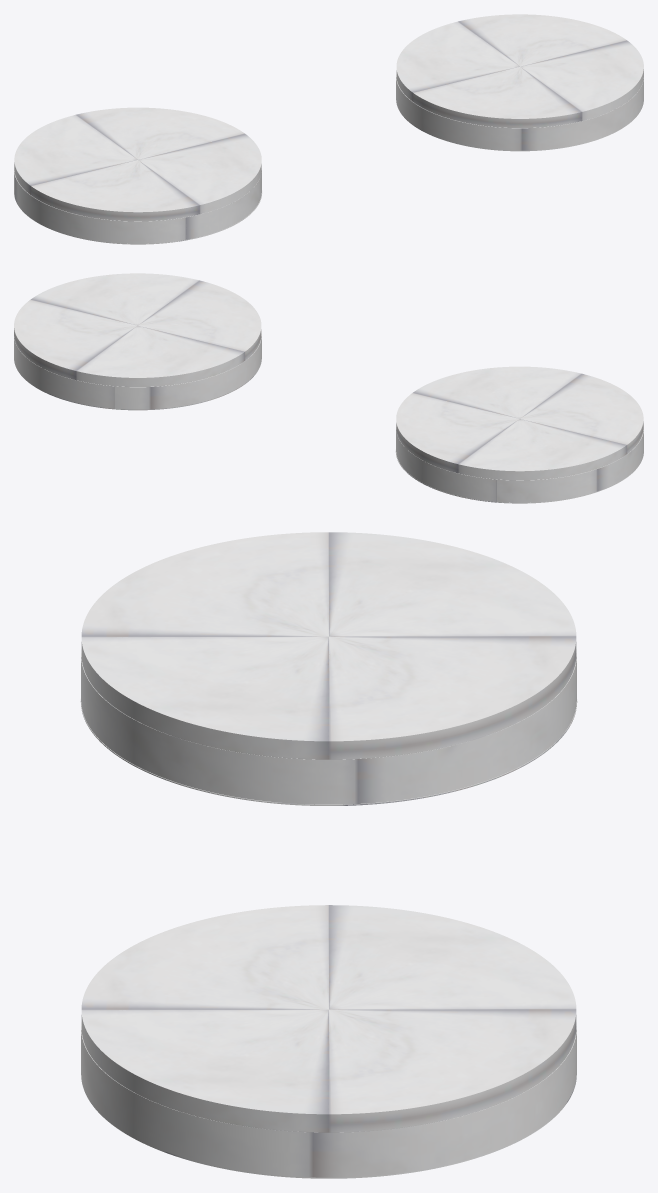
Rendered from Tiled Immersive Storytelling Lab.fbx.
3 views of the same model, one above another, from view 1: azimuth 30°, elevation 25°; view 2: azimuth 150°, elevation 25°; view 3: azimuth 270°, elevation 25° (orthographic). The views are drawn at different scales.
Visible parts, largest first — view 1: roof, 3d; view 2: roof, 3d; view 3: roof, 3d.
Boxes of the visible parts, x1,y1,x2,y2 form: roof: (14,14,643,221); 3d: (14,72,643,244); roof: (14,273,643,480); 3d: (14,331,643,503); roof: (81,532,576,1132); 3d: (80,649,577,1178).
Bounding box in the file's own units: 1093 × 394 × 56.43.
Materials: 1 (1 with a texture image).
